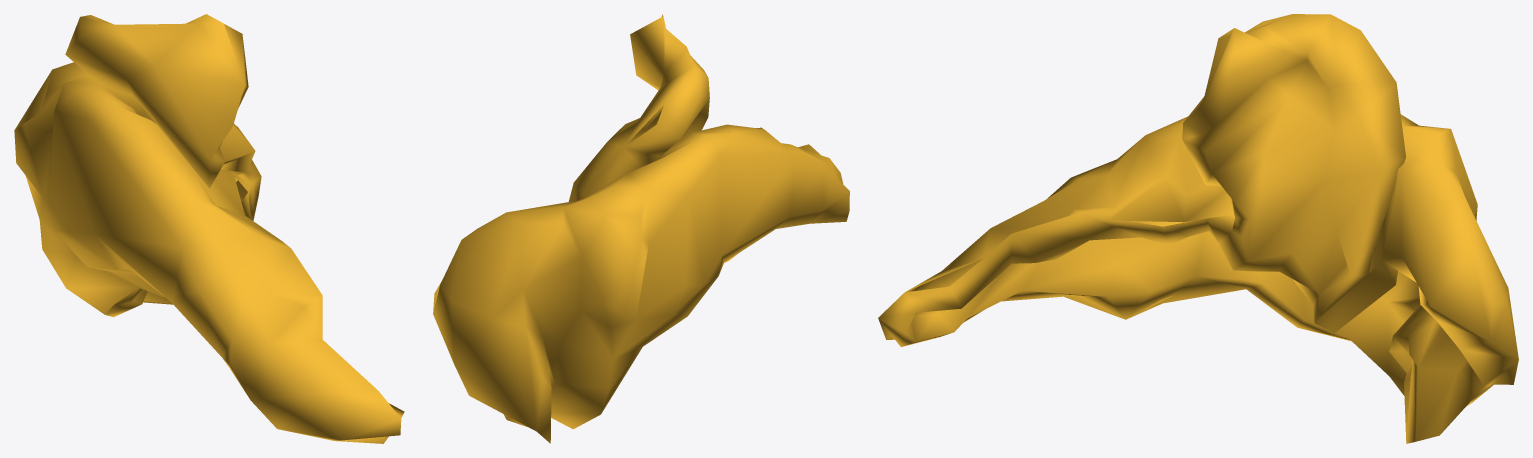
The model's file is nervoso-cuneus-l.glb.
3 views of the same model, side by side, from view 1: azimuth 30°, elevation 25°; view 2: azimuth 150°, elevation 25°; view 3: azimuth 270°, elevation 25° (orthographic). The views are drawn at different scales.
Visible parts, largest first — view 1: Cuneus.l; view 2: Cuneus.l; view 3: Cuneus.l.
Part boxes in pixels (x1,y1,x2,y2): Cuneus.l: (14, 14, 404, 443); Cuneus.l: (433, 14, 849, 443); Cuneus.l: (878, 14, 1518, 443).
Size of the model in its own units: 0.0195 by 0.0321 by 0.0494.
